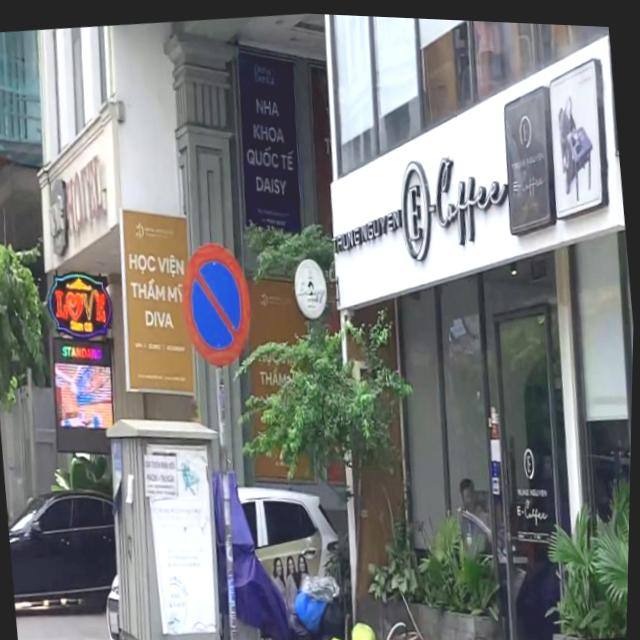Cam do xe: (176, 235, 260, 369)
